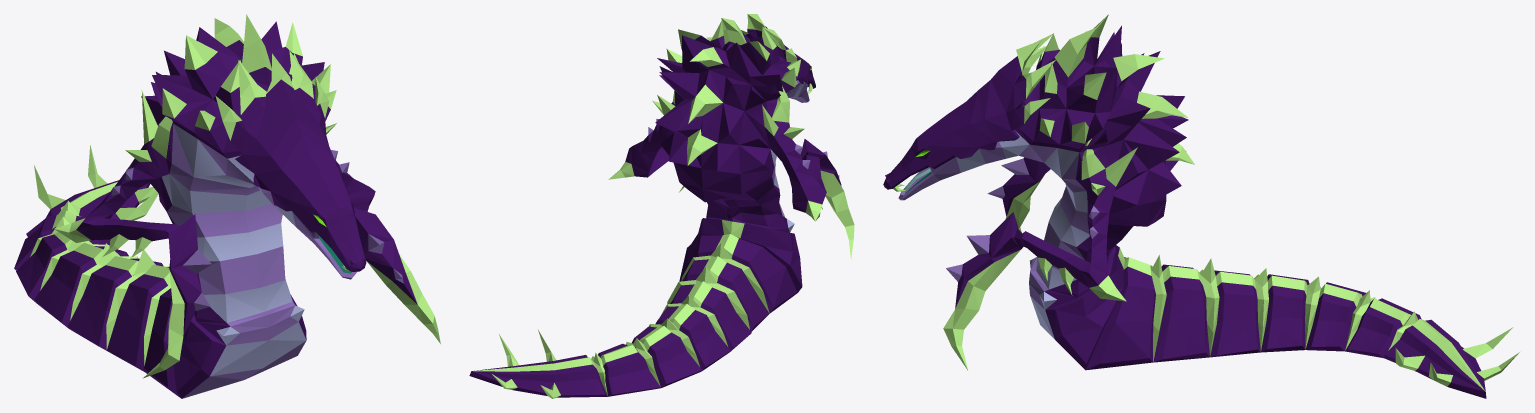
3 renders of one model, left to right at view 1: azimuth 30°, elevation 25°; view 2: azimuth 150°, elevation 25°; view 3: azimuth 270°, elevation 25°, orthographic. The views are drawn at different scales.
Parts seen in each view (by area): view 1: Alien_Serpent; view 2: Alien_Serpent; view 3: Alien_Serpent.
Part boxes in pixels (box(x1,y1,x2,y2)): Alien_Serpent: box(14, 14, 440, 398); Alien_Serpent: box(469, 14, 854, 398); Alien_Serpent: box(883, 14, 1519, 398).
Size of the model in its own units: 186 by 218 by 382.
1 material, 1 textured.
